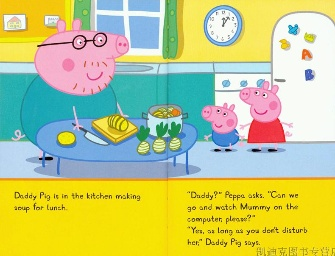Peppa: (239, 82, 295, 154)
